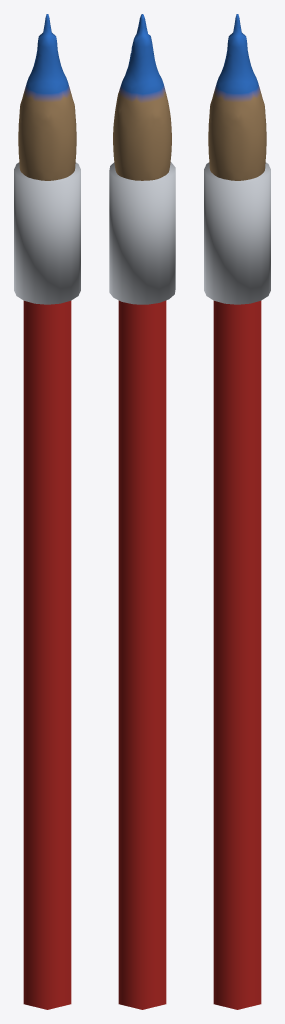
Rendered from paint_brush.glb.
3 views of the same model, side by side, from view 1: azimuth 90°, elevation 25°; view 2: azimuth 210°, elevation 25°; view 3: azimuth 270°, elevation 25° (orthographic).
Visible parts, largest first — view 1: paint_brush; view 2: paint_brush; view 3: paint_brush.
Boxes of the visible parts, bbox=[...] form: paint_brush: bbox=[14, 14, 80, 1009]; paint_brush: bbox=[109, 14, 175, 1009]; paint_brush: bbox=[204, 14, 270, 1009].
Bounding box in the file's own units: 0.0132 × 0.2141 × 0.0132.
